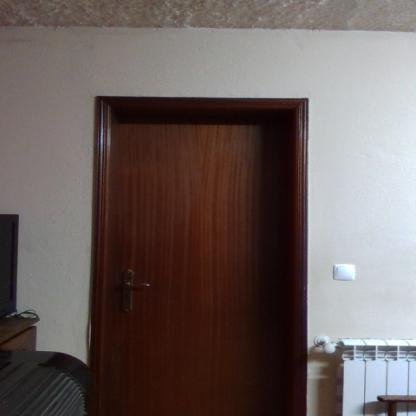door: (108, 102, 295, 415)
lever: (120, 280, 154, 295)
